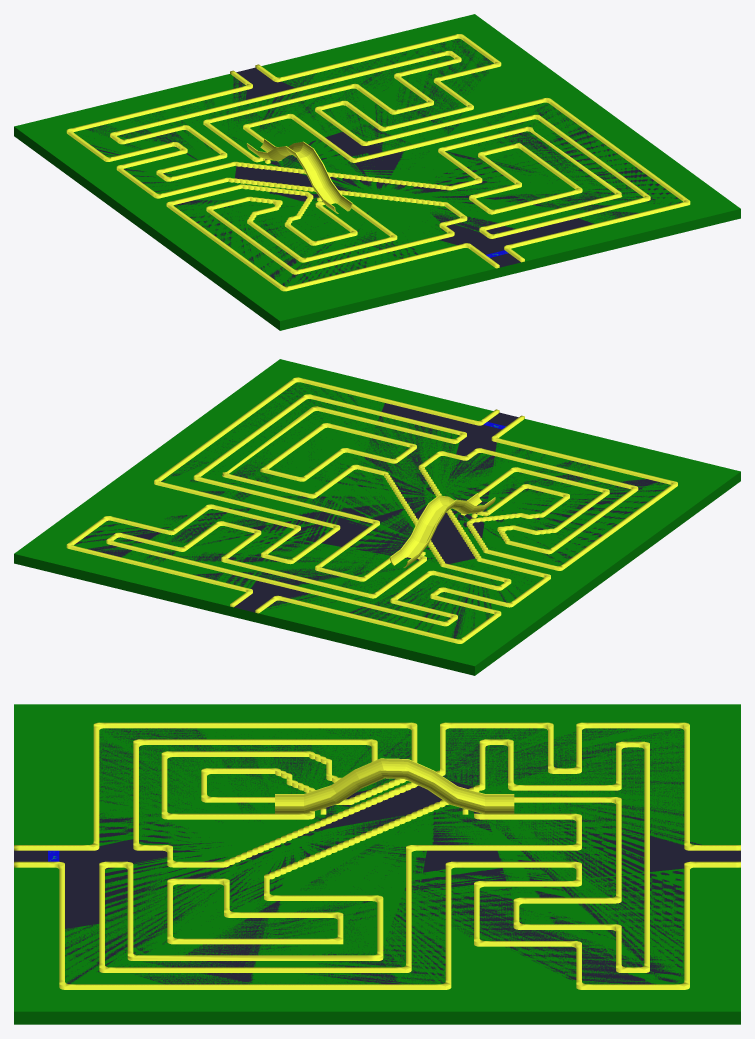
The model's file is map2.3.fbx.
The picture shows the model from 3 angles, top to bottom: view 1: azimuth 30°, elevation 25°; view 2: azimuth 150°, elevation 25°; view 3: azimuth 270°, elevation 25°; orthographic projection. The views are drawn at different scales.
Visible parts, largest first — view 1: Cube; view 2: Cube; view 3: Cube.
Boxes of the visible parts, x1,y1,x2,y2 form: Cube: [14, 14, 740, 330]; Cube: [14, 359, 740, 675]; Cube: [14, 704, 740, 1024].
Size of the model in its own units: 10000 by 893 by 10000.
